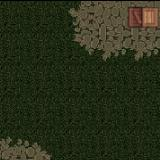Hide: (125, 0, 160, 37)
